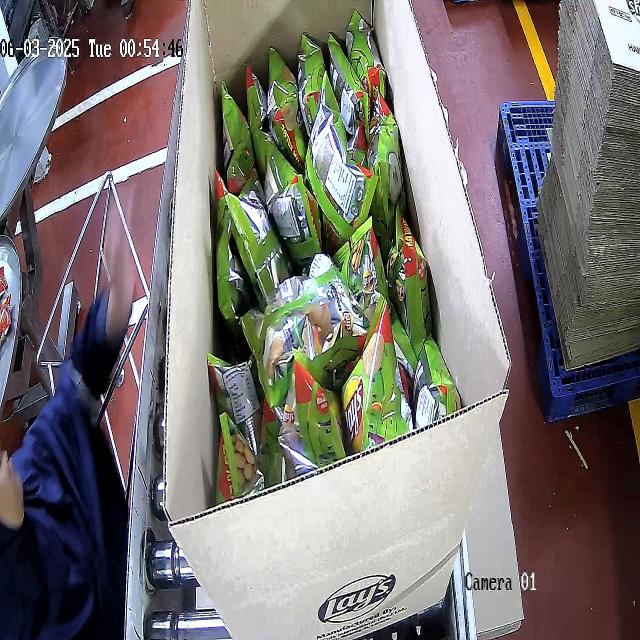YOGURT_HERB: (212, 10, 460, 494)
